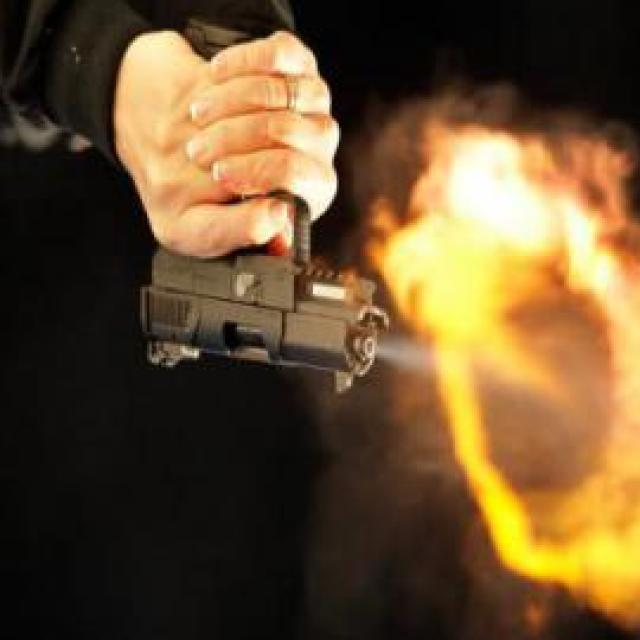pistol: (140, 12, 386, 393)
